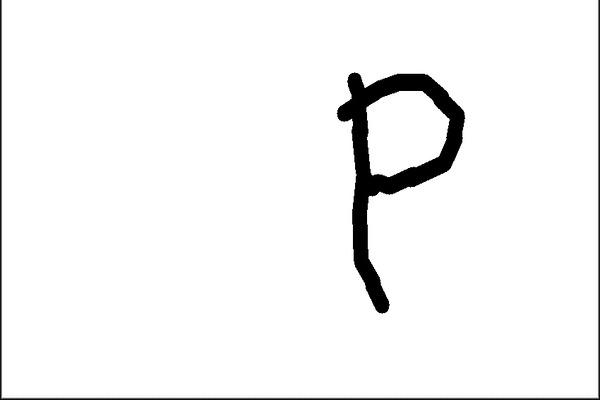P: (327, 59, 487, 320)
